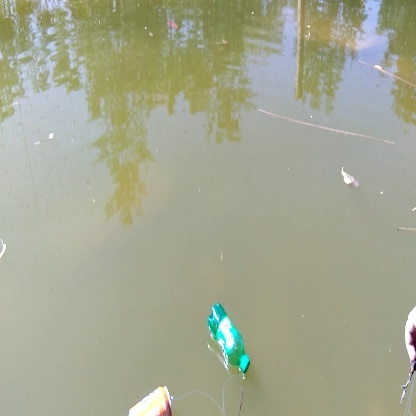bottle: (205, 300, 256, 378)
